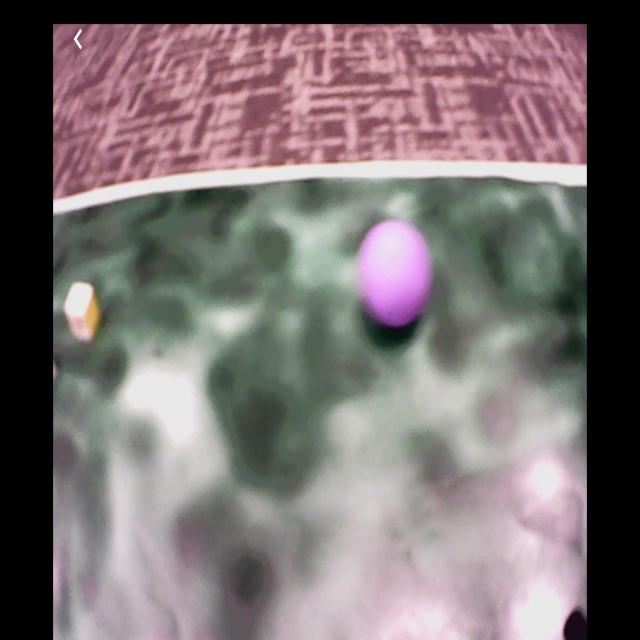ball: (360, 222, 433, 334)
